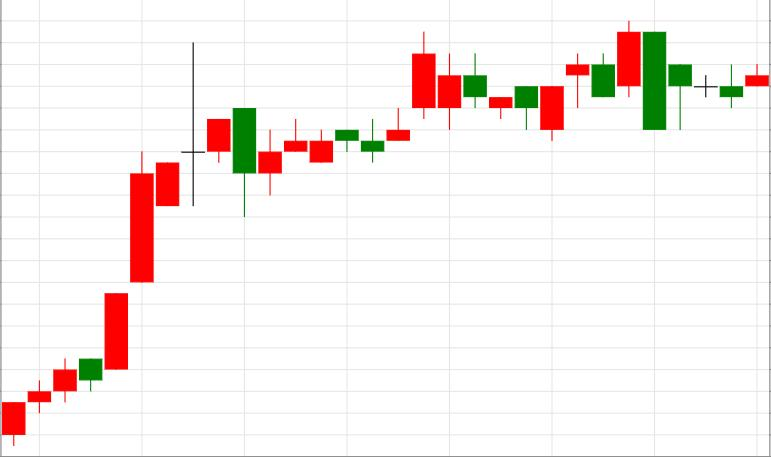bearish_engulfing_fall: (104, 43, 256, 370)
